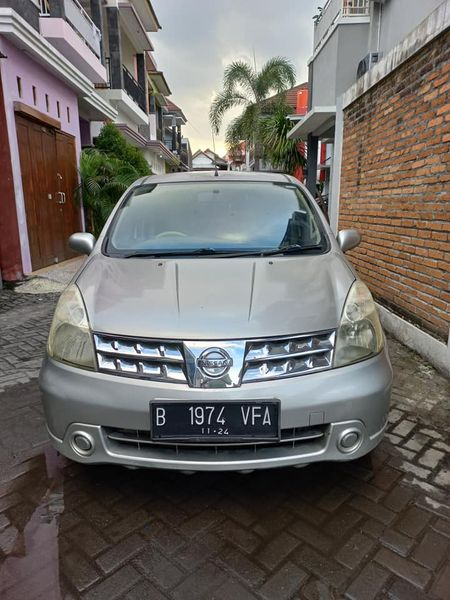plate: (147, 401, 283, 445)
